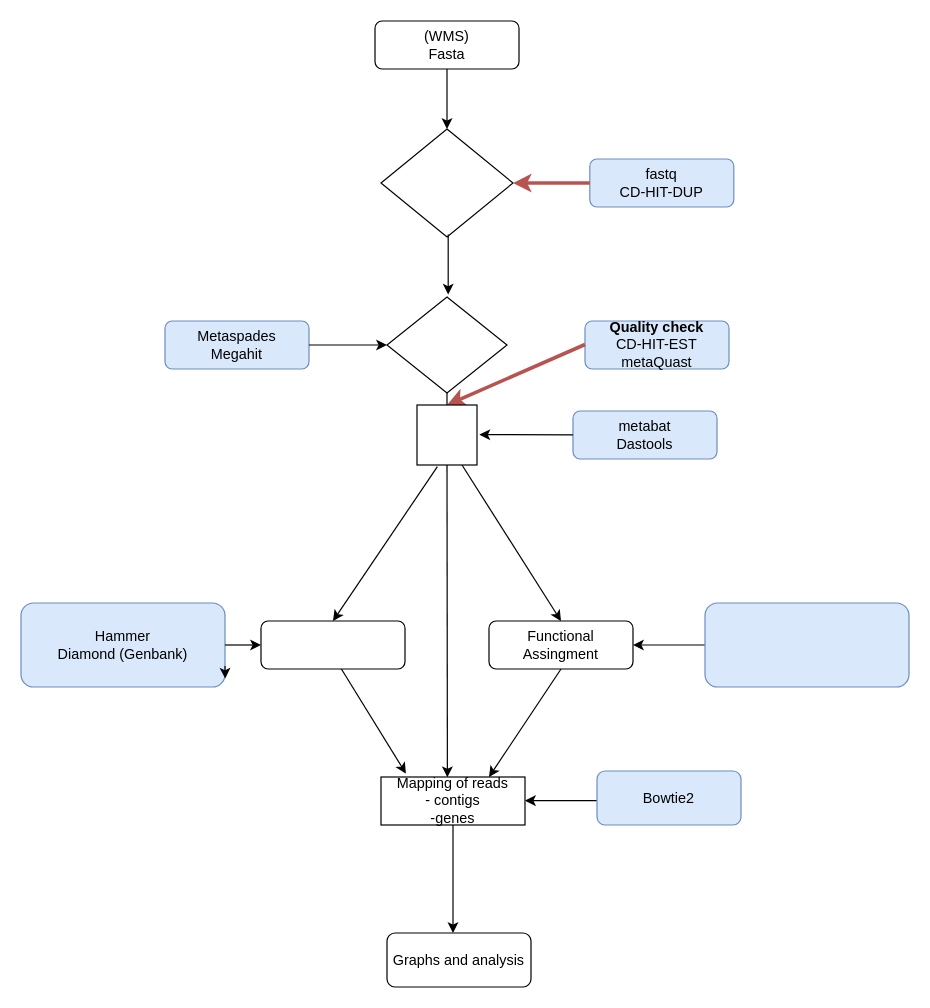
Image size: 930x1008. Some labels were removed from this diagram. Here are the shapes that lost their labels. From the top down, the box of each, then its label:
(380, 128, 513, 237): Quality and filter
(386, 296, 507, 393): Assembly
(416, 404, 477, 465): Binning
(260, 620, 405, 669): Taxonomical assingment
(704, 602, 909, 687): Emmaper Diamond (KEGG, Interpro)
